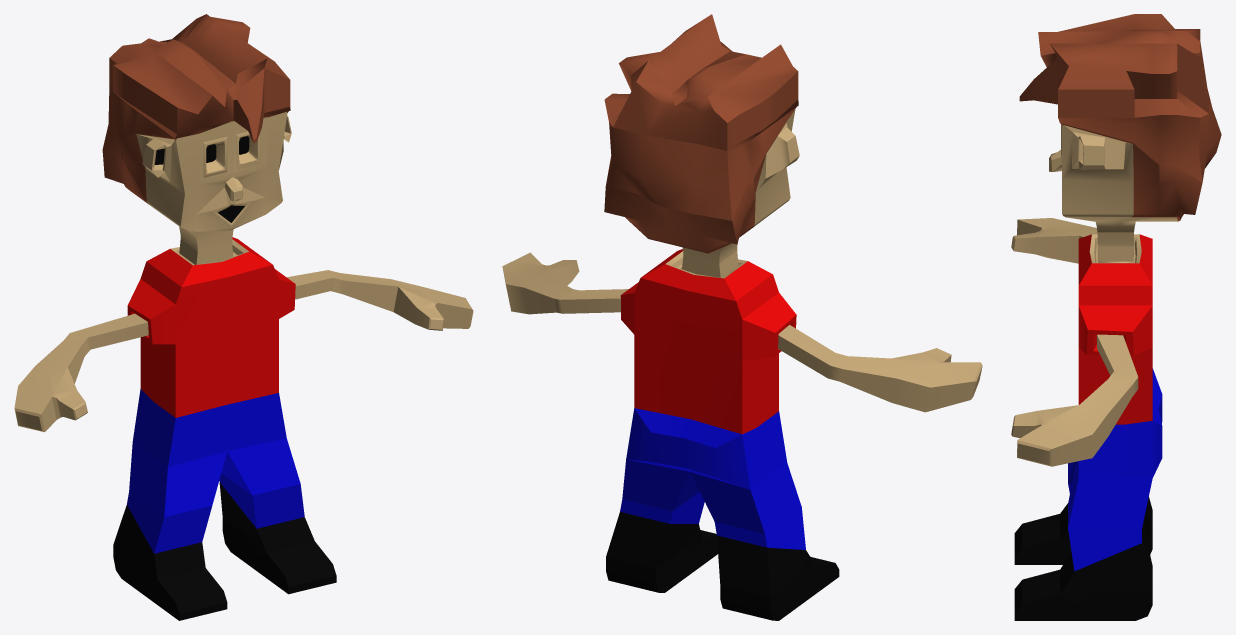
Rendered from Player.fbx.
3 renders of one model, left to right at view 1: azimuth 30°, elevation 25°; view 2: azimuth 150°, elevation 25°; view 3: azimuth 270°, elevation 25°, orthographic. The views are drawn at different scales.
Parts seen in each view (by area): view 1: Player_02_pCube1; view 2: Player_02_pCube1; view 3: Player_02_pCube1.
Part boxes in pixels (x1=…): Player_02_pCube1: x1=14, y1=14, x2=473, y2=620; Player_02_pCube1: x1=502, y1=14, x2=982, y2=620; Player_02_pCube1: x1=1011, y1=14, x2=1221, y2=620.
Size of the model in its own units: 13.72 by 15.23 by 5.27.
